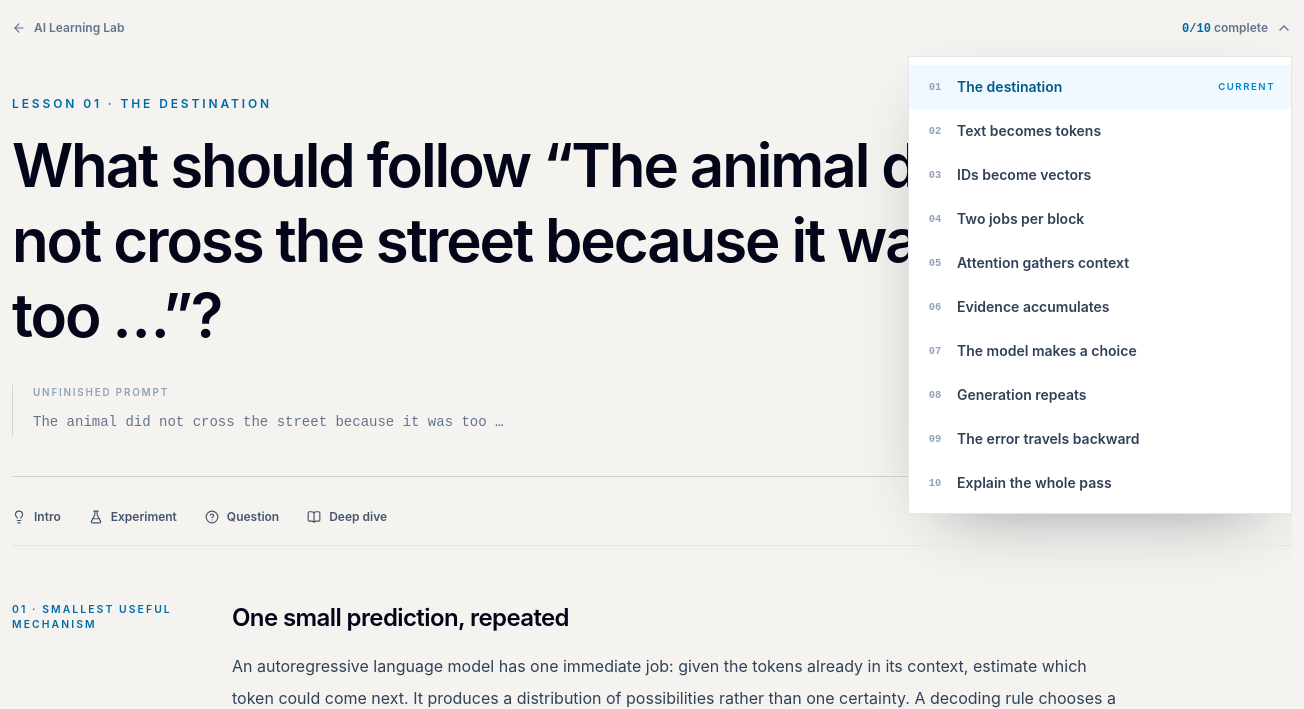
LlmCoursePage › closes the lesson menu after choosing a lesson
Step 1. Click the link with test id "pipeline-tokens" → (1015, 130), box [929,122,1101,139]
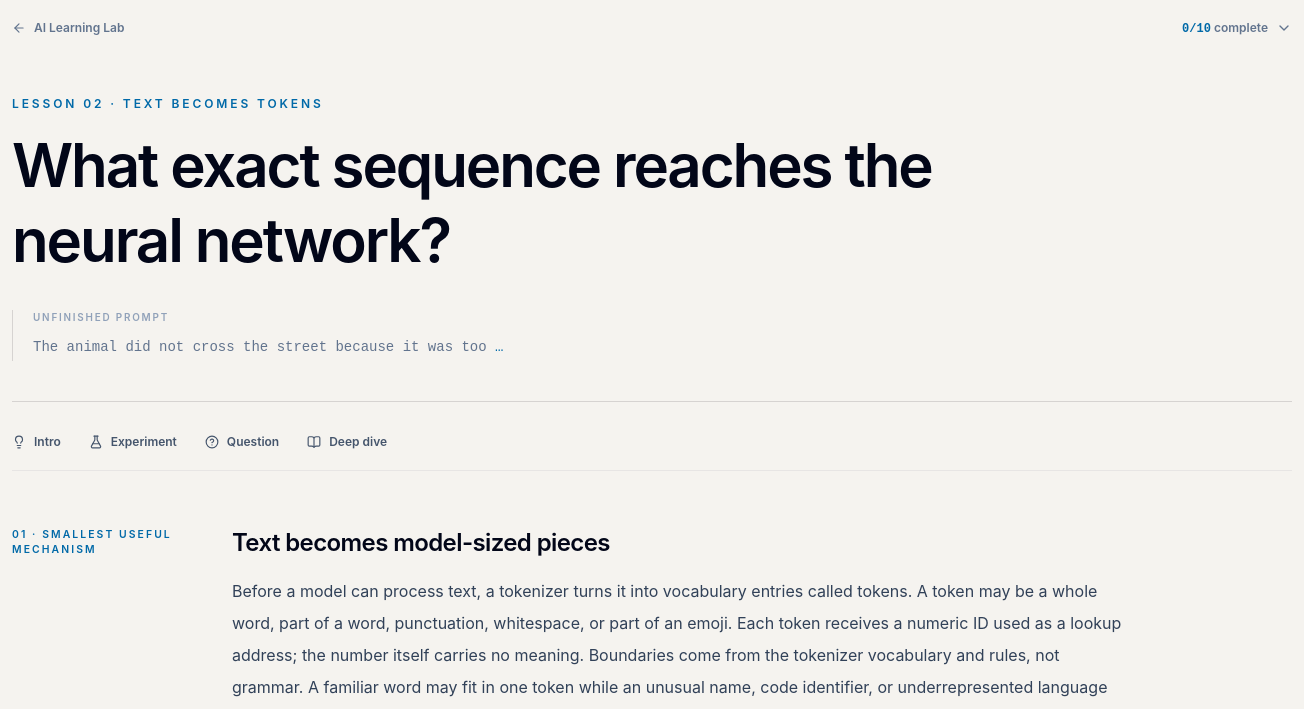
Expected: the heading with test id "course-lesson-title" shows "What exact sequence reaches the neural network", [12,129,932,276]
